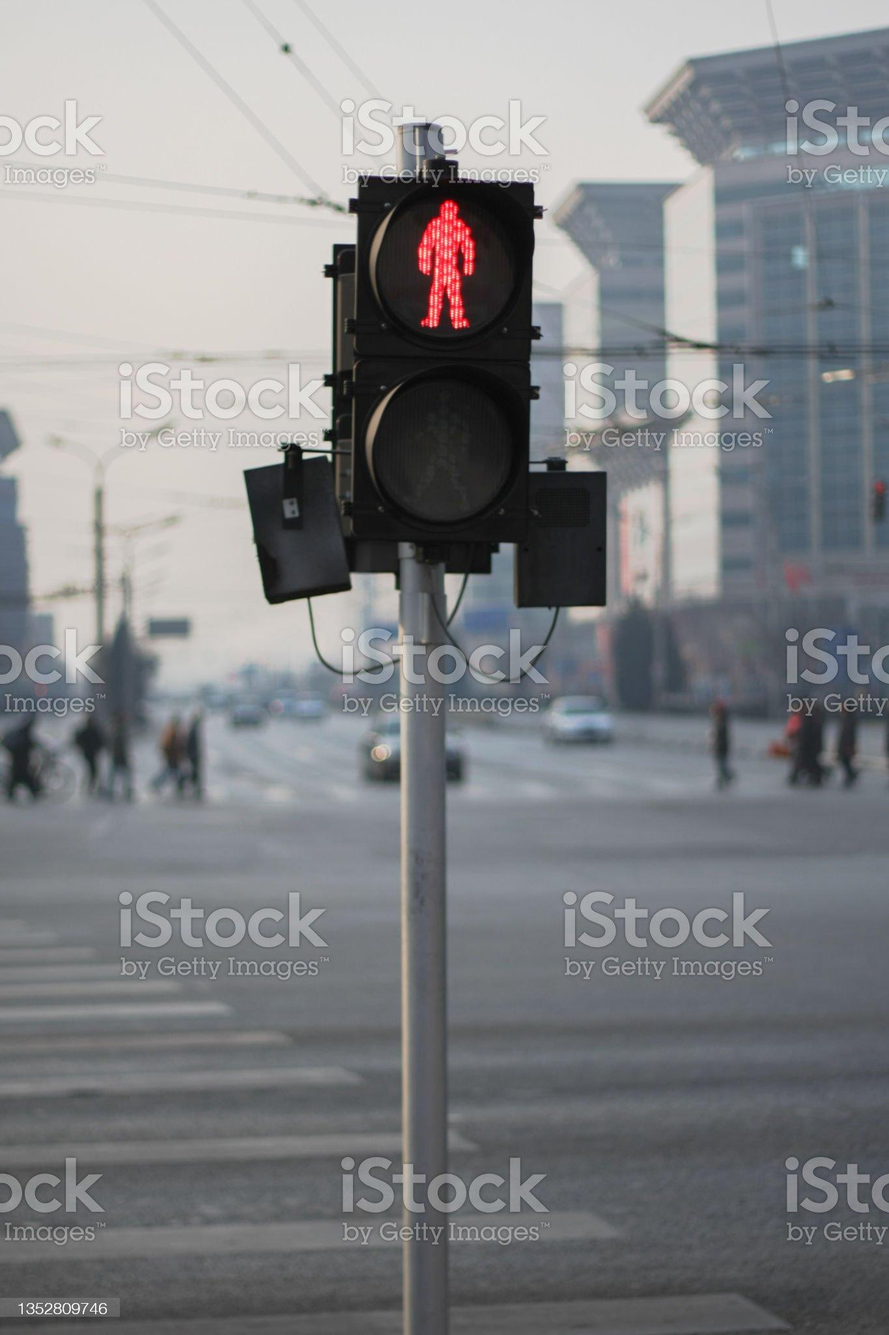red: (355, 186, 563, 574)
